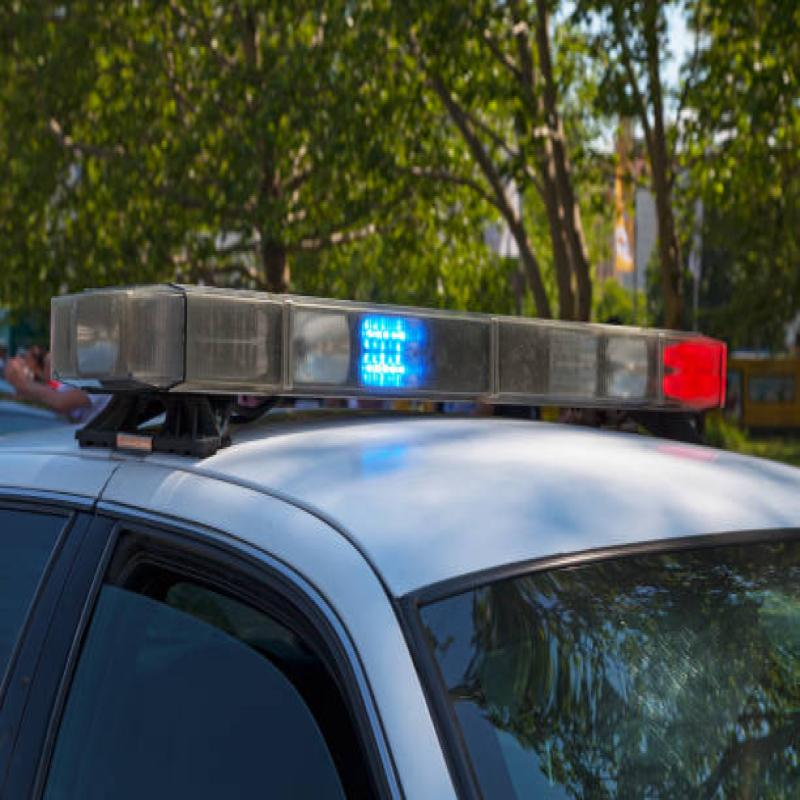AmbulanceSiren: (61, 234, 753, 461)
